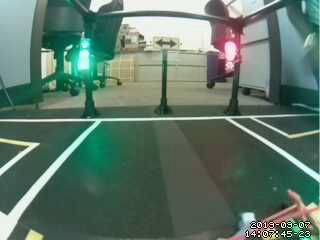Left_Right_sign: (150, 34, 183, 52)
Traffic_light_green: (75, 35, 92, 76)
Traffic_light_red: (224, 37, 243, 75)
